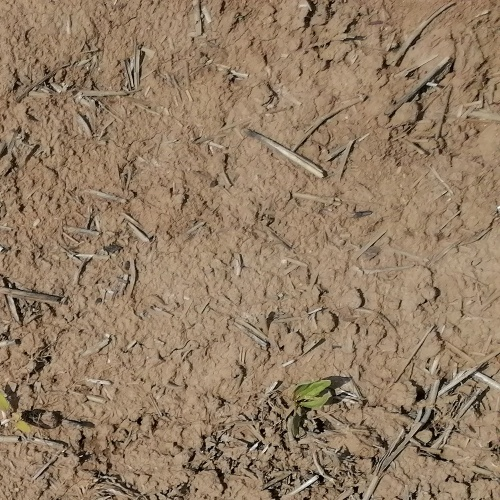beet: (286, 376, 334, 417), (0, 394, 31, 433)
